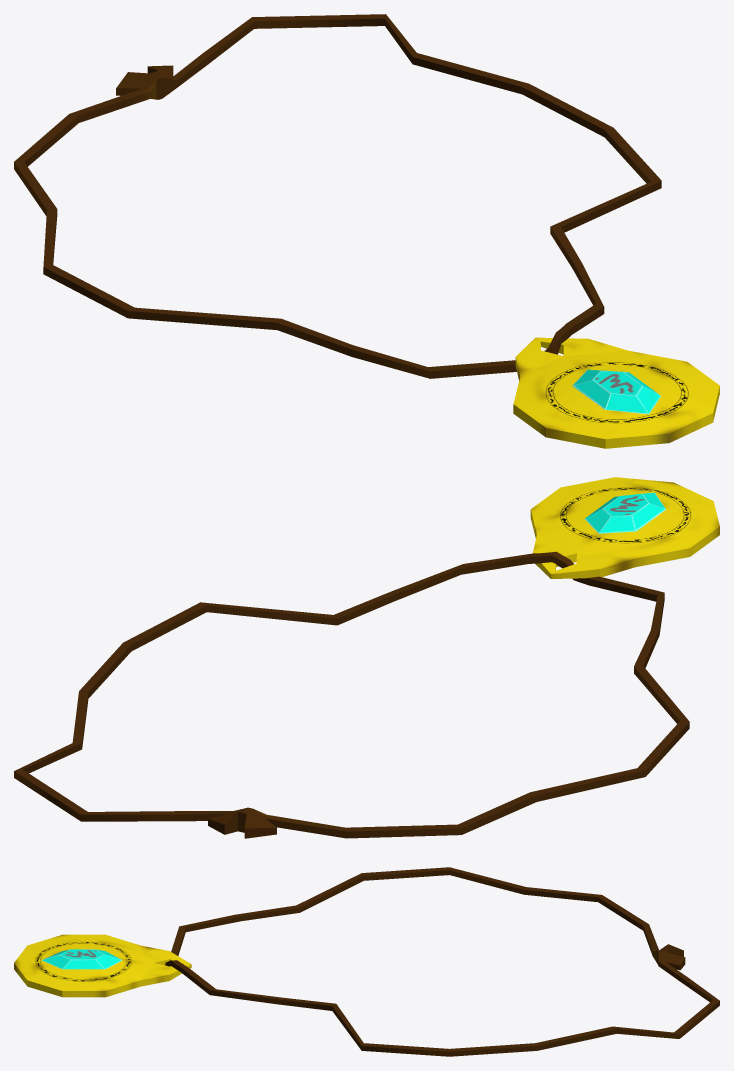
Rendered from amulet.fbx.
The picture shows the model from 3 angles, top to bottom: view 1: azimuth 30°, elevation 25°; view 2: azimuth 150°, elevation 25°; view 3: azimuth 270°, elevation 25°; orthographic projection. The views are drawn at different scales.
Visible parts, largest first — view 1: loop, amulet; view 2: loop, amulet; view 3: loop, amulet.
Part boxes in pixels (x1,y1,x2,y2): loop: [14, 14, 661, 378]; amulet: [513, 337, 719, 448]; loop: [14, 551, 689, 838]; amulet: [530, 477, 719, 578]; loop: [165, 867, 719, 1056]; amulet: [14, 934, 191, 997].
Size of the model in its own units: 6.24 by 0.3001 by 10.08.
2 materials, 2 textured.
